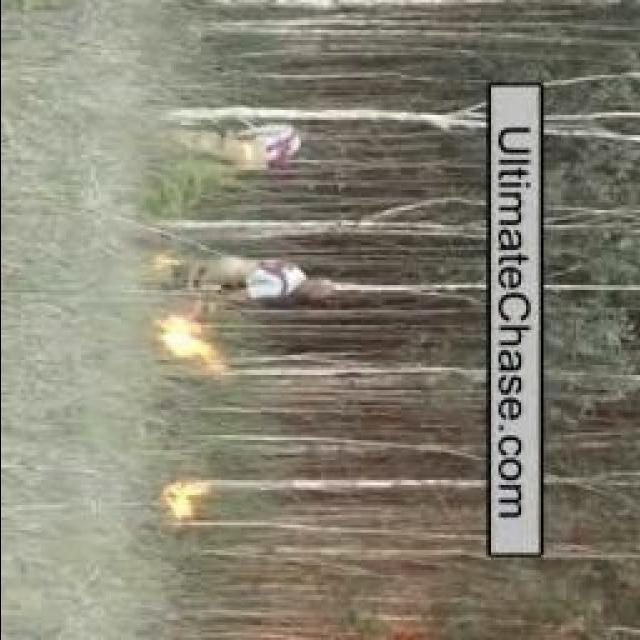Fire: (160, 315, 215, 370), (156, 484, 198, 522), (152, 254, 172, 267)
